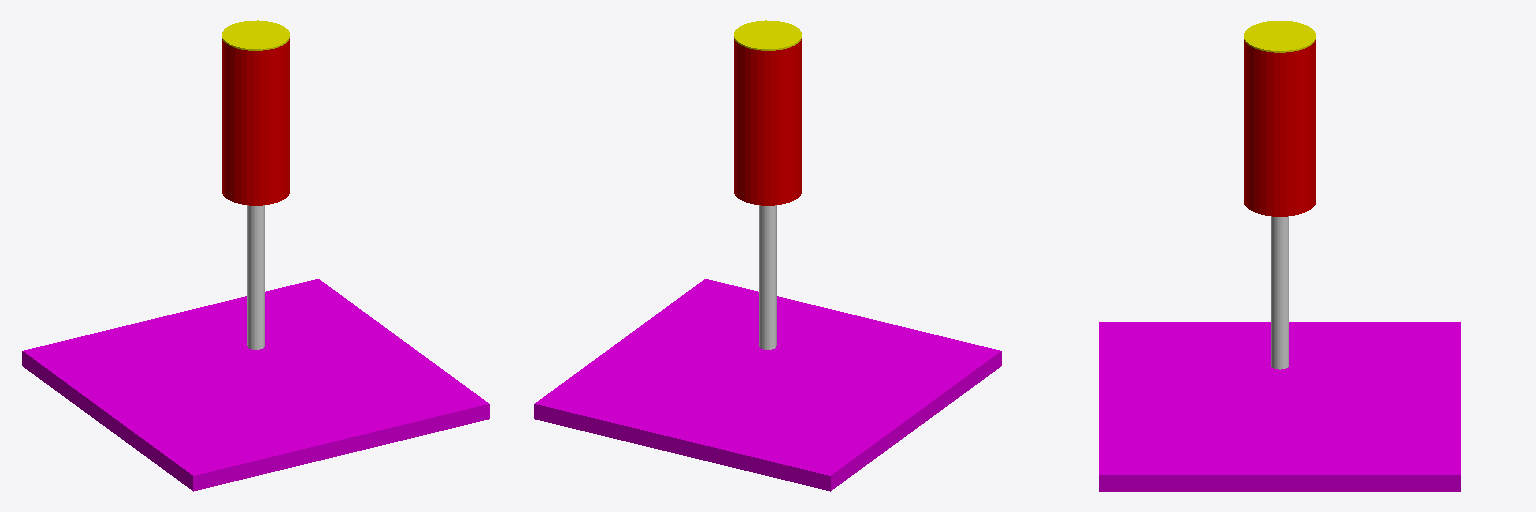
The robot description file, URDF, robot "screwdriver_on_the_table":
<?xml version="1.0" ?>

<robot name="screwdriver_on_the_table">
<link name="table">
    <inertial>
      <mass value="10000.0"/>
      <inertia ixx="1000.0" ixy="0.0" ixz="0.0" iyy="1000.0" iyz="0.0" izz="1000.0"/>
    </inertial>
    <visual>
      <origin rpy="0 0 0" xyz="0 0 -0.025"/>
        <geometry>
            <box size="0.2 0.2 0.01"/>
        </geometry>
           <material name="Purple1">
	 	<color rgba="0.9 0. 0.9 1.0"/>
	</material>
    </visual>
</link>

<joint name="table_screwdriver_joint_1" type="revolute">
    <parent link="table"/>
    <child link="vitrual_link_1"/>
    <origin rpy="0 0 0" xyz="0 0 0"/>
    <axis xyz="1 0 0"/>
    <limit effort="10" lower="-1.57" upper="1.57" velocity="0.5"/>
</joint>

<link name="vitrual_link_1">
    <inertial>
      <mass value="0.0000001"/>
      <inertia ixx="0.000001" ixy="0.0" ixz="0.0" iyy="0.000001" iyz="0.0" izz="0.000001"/>
    </inertial>
</link>

<joint name="table_screwdriver_joint_2" type="revolute">
    <parent link="vitrual_link_1"/>
    <child link="vitrual_link_2"/>
    <origin rpy="0 0 0" xyz="0 0 0"/>
    <axis xyz="0 1 0"/>
    <limit effort="10" lower="-1.57" upper="1.57" velocity="0.5"/>
</joint>

<link name="vitrual_link_2">
    <inertial>
      <mass value="0.0000001"/>
      <inertia ixx="0.000001" ixy="0.0" ixz="0.0" iyy="0.000001" iyz="0.0" izz="0.000001"/>
    </inertial>
</link>

<joint name="table_screwdriver_joint_3" type="revolute">
    <parent link="vitrual_link_2"/>
    <child link="screwdriver_stick"/>
    <origin rpy="0 0 0" xyz="0 0 0"/>
    <axis xyz="0 0 1"/>
</joint>

<link name="screwdriver_stick">
    <inertial>
      <mass value="0.05"/>
    </inertial>
    <visual>
        <origin rpy="0 0 0" xyz="0 0 0.05"/>
        <geometry>
            <cylinder radius="0.005" length="0.1"/>
        </geometry>
        <material name="White">
	 	    <color rgba="0.9 0.9 0.9 0.5"/>
        </material>
    </visual>
    <collision>
        <origin rpy="0 0 0" xyz="0 0 0.05"/>
        <geometry>
            <cylinder radius="0.005" length="0.1"/>
        </geometry>
    </collision>
</link>

<joint name="screwdriver_stick_body_joint" type="fixed">
    <parent link="screwdriver_stick"/>
    <child link="screwdriver_body"/>
    <origin rpy="0 0 0" xyz="0 0 0.1"/>
    <axis xyz="0 0 1"/>
</joint>

<link name="screwdriver_body">
    <inertial>
      <mass value="0.3"/>
    </inertial>
    <visual>
        <origin rpy="0 0 0" xyz="0 0 0.05"/>
        <geometry>
            <cylinder radius="0.02" length="0.1"/>
        </geometry>
        <material name="Red1">
	 	    <color rgba="0.9 0. 0. 0.5"/>
        </material>
    </visual>
    <collision>
        <origin rpy="0 0 0" xyz="0 0 0.05"/>
        <geometry>
            <cylinder radius="0.02" length="0.1"/>
        </geometry>
    </collision>
</link>

<joint name="screwdriver_body_cap_joint" type="revolute">
    <parent link="screwdriver_body"/>
    <child link="screwdriver_cap"/>
    <origin rpy="0 0 0" xyz="0 0 0.1"/>
    <axis xyz="0 0 1"/>
</joint>

<link name="screwdriver_cap">
    <inertial>
      <mass value="0.005"/>
    </inertial>
    <visual>
        <origin rpy="0 0 0" xyz="0 0 0.0005"/>
        <geometry>
            <cylinder radius="0.02" length="0.001"/>
        </geometry>
        <material name="Yellow">
	 	    <color rgba="0.9 0.9 0. 1.0"/>
        </material>
    </visual>
    <collision>
        <origin rpy="0 0 0" xyz="0 0 0.0005"/>
        <geometry>
            <cylinder radius="0.02" length="0.001"/>
        </geometry>
    </collision>
</link>

</robot>

--- Facts derived from the render (not from the file) ---
Views: 3 orthographic renders of the robot side by side, from view 1: azimuth 30°, elevation 25°; view 2: azimuth 150°, elevation 25°; view 3: azimuth 270°, elevation 25°.
Robot: screwdriver_on_the_table — 6 links, 5 joints (4 revolute, 1 fixed); root link table; default pose: every joint at zero.
Visible links, largest first — view 1: table, screwdriver_body, screwdriver_stick, screwdriver_cap; view 2: table, screwdriver_body, screwdriver_stick, screwdriver_cap; view 3: table, screwdriver_body, screwdriver_stick, screwdriver_cap.
Link boxes in pixels (x1,y1,x2,y2): table: (22,279,489,491); screwdriver_body: (222,39,289,205); screwdriver_stick: (247,205,264,349); screwdriver_cap: (222,20,289,50); table: (534,279,1001,491); screwdriver_body: (734,39,801,205); screwdriver_stick: (759,205,776,349); screwdriver_cap: (734,20,801,50); table: (1099,322,1460,491); screwdriver_body: (1244,40,1315,216); screwdriver_stick: (1271,216,1288,369); screwdriver_cap: (1244,21,1315,52).
Bounding box of the posed robot: 0.2 × 0.2 × 0.231 m (x, y, z).
Geometry: primitives only (box / cylinder / sphere), no mesh files.
